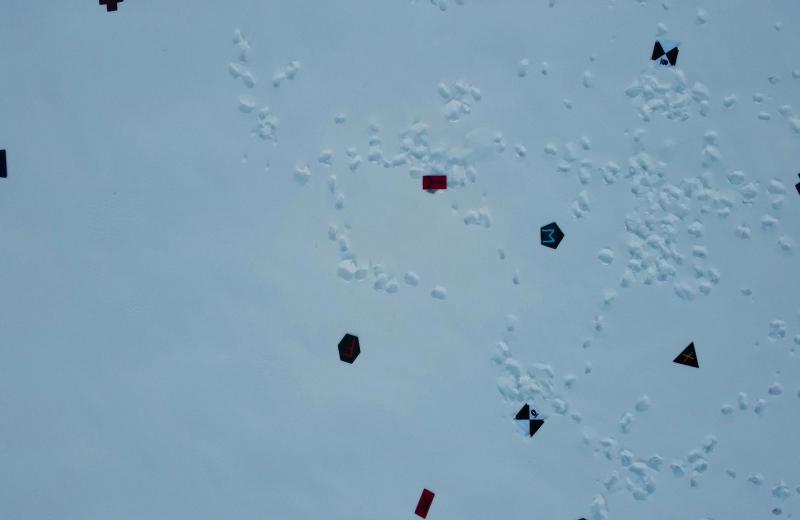Cross: (95, 0, 124, 17)
Hexagon: (333, 331, 362, 366)
Pentagon: (538, 215, 570, 251)
Rectangle: (410, 487, 438, 520), (420, 168, 454, 194)
Triangle: (671, 340, 698, 374)
